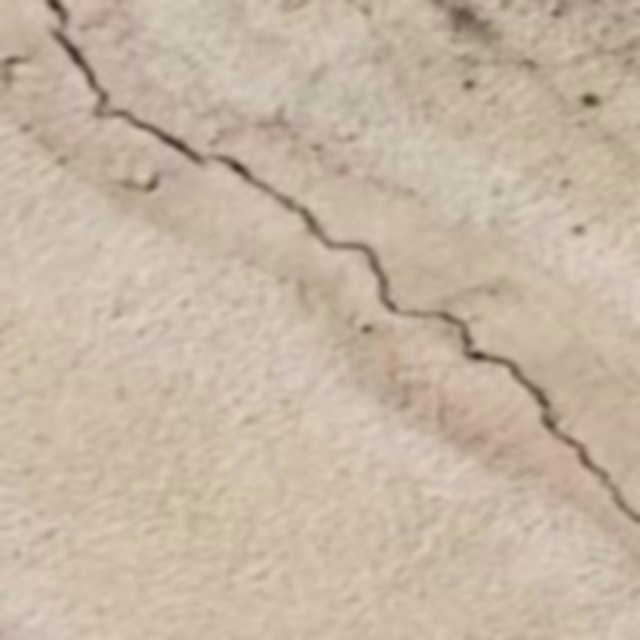SurfaceCrack: (44, 0, 640, 530)
